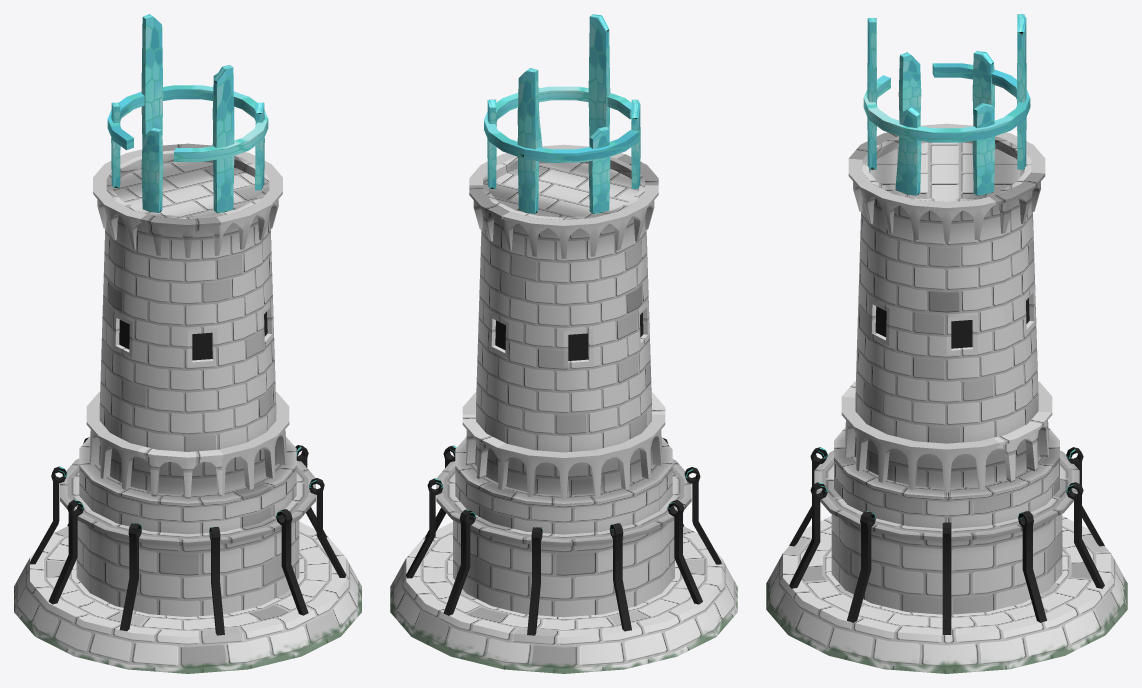
3 renders of one model, left to right at view 1: azimuth 30°, elevation 25°; view 2: azimuth 150°, elevation 25°; view 3: azimuth 270°, elevation 25°, orthographic. The views are drawn at different scales.
Parts seen in each view (by area): view 1: wt; view 2: wt; view 3: wt.
Boxes of the visible parts, x1,y1,x2,y2 form: wt: [14, 14, 361, 673]; wt: [390, 14, 737, 673]; wt: [766, 14, 1127, 673].
Bounding box in the file's own units: 1786 × 3109 × 1759.
Materials: 1 (1 with a texture image).
